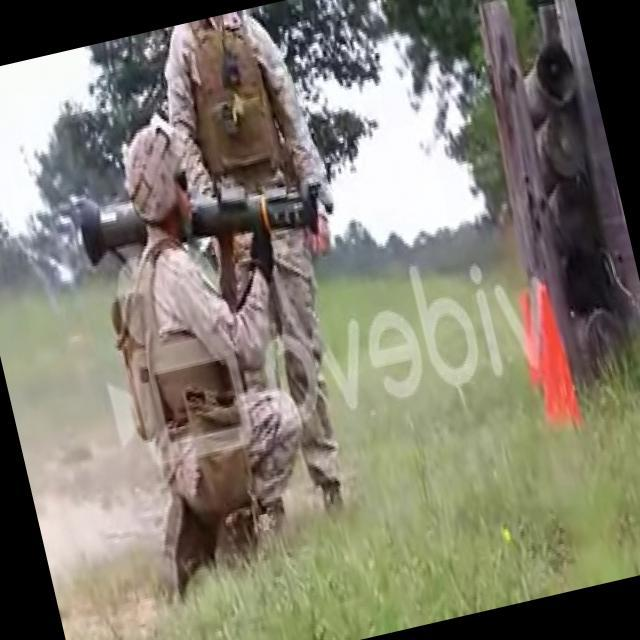rocket: (74, 148, 328, 276)
